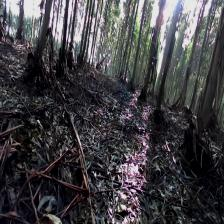trunk: (197, 19, 223, 136), (156, 4, 181, 106), (130, 4, 146, 86), (34, 2, 52, 63), (60, 3, 69, 60)
